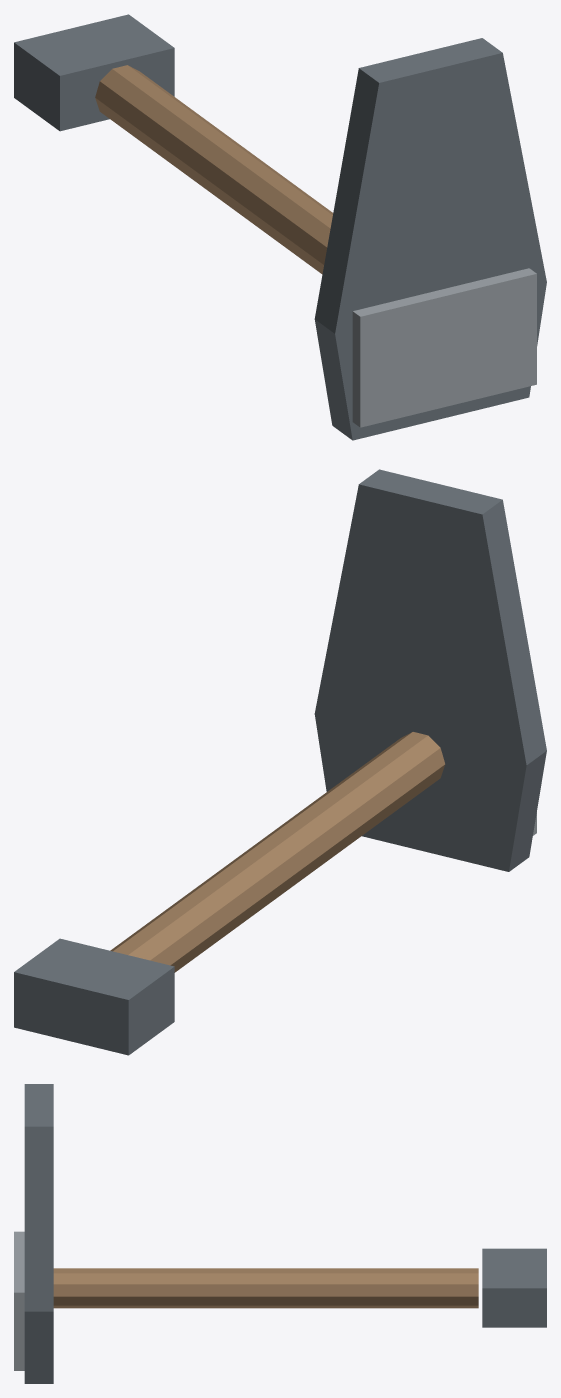
File: shovel.glb
3 views of the same model, one above another, from view 1: azimuth 30°, elevation 25°; view 2: azimuth 150°, elevation 25°; view 3: azimuth 270°, elevation 25° (orthographic). The views are drawn at different scales.
Parts seen in each view (by area): view 1: 02_spade, 03_blade_edge, 00_shaft, 01_grip; view 2: 02_spade, 00_shaft, 01_grip; view 3: 00_shaft, 02_spade, 01_grip, 03_blade_edge.
Boxes of the visible parts, x1,y1,x2,y2 form: 02_spade: (314,38,546,440); 03_blade_edge: (352,268,536,427); 00_shaft: (95,65,333,274); 01_grip: (14,14,174,131); 02_spade: (314,469,546,871); 00_shaft: (110,732,445,972); 01_grip: (14,938,174,1055); 00_shaft: (53,1268,478,1308); 02_spade: (24,1084,53,1383); 01_grip: (482,1248,546,1327); 03_blade_edge: (14,1231,24,1370).
Size of the model in its own units: 0.24 by 0.38 by 0.74.
